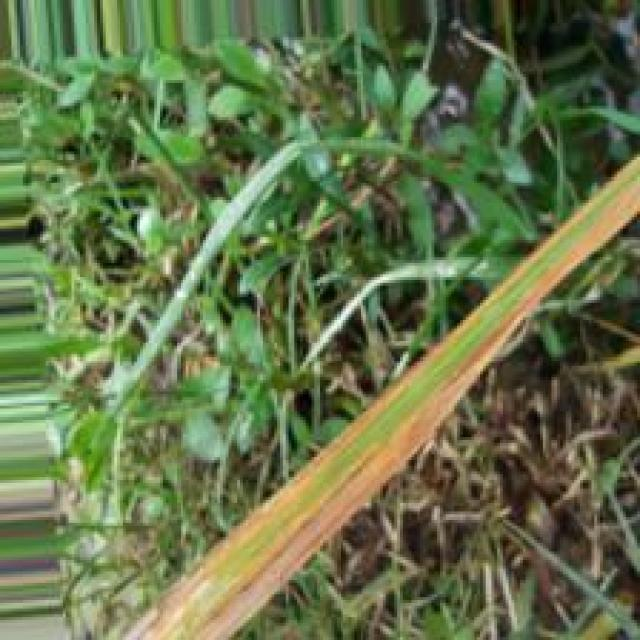Bacterial_Leaf_Blight: (130, 157, 640, 639), (196, 180, 640, 640)
